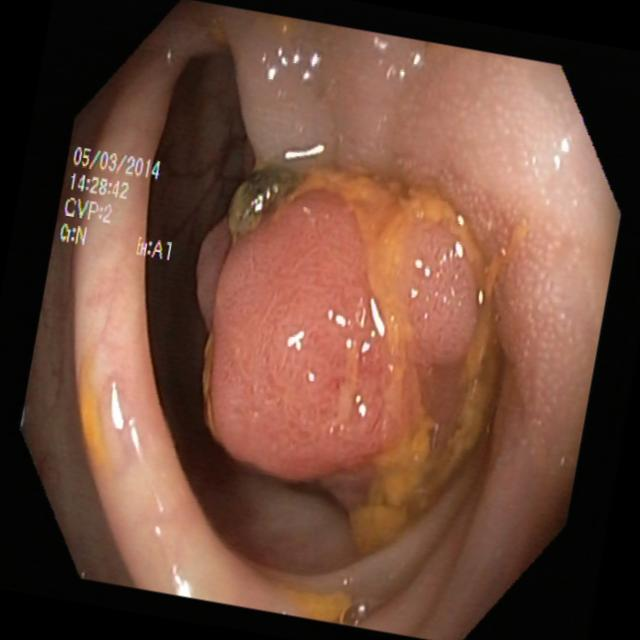Polyps: (196, 157, 496, 558)
